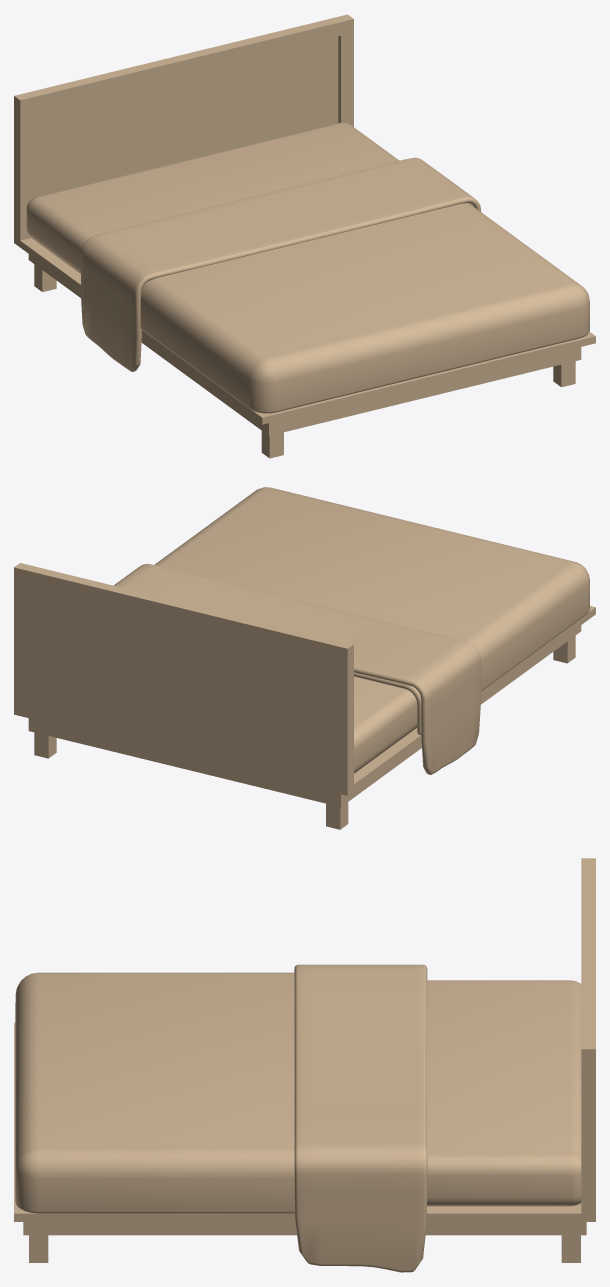
File: SM_bed.glb
3 views of the same model, one above another, from view 1: azimuth 30°, elevation 25°; view 2: azimuth 150°, elevation 25°; view 3: azimuth 270°, elevation 25° (orthographic). The views are drawn at different scales.
Parts seen in each view (by area): view 1: SM_bed; view 2: SM_bed; view 3: SM_bed.
Boxes of the visible parts, x1,y1,x2,y2 form: SM_bed: (14, 14, 595, 458); SM_bed: (14, 487, 595, 829); SM_bed: (14, 858, 595, 1272).
Size of the model in its own units: 3.01 by 1.57 by 3.73.
